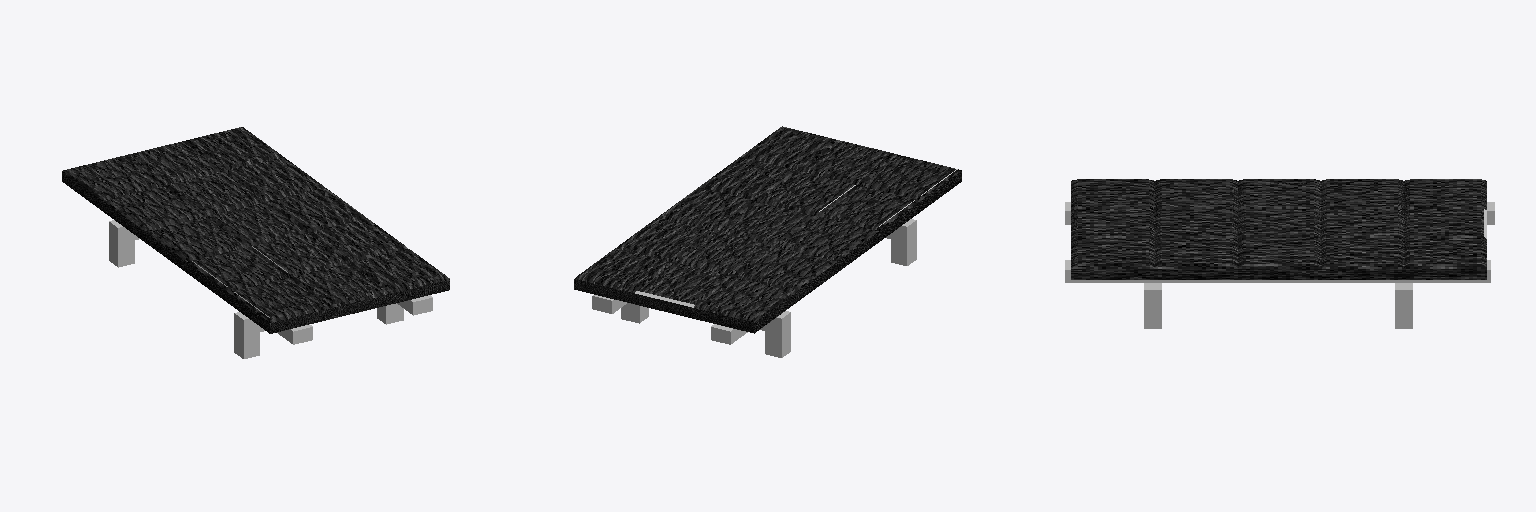
3 renders of one model, left to right at view 1: azimuth 30°, elevation 25°; view 2: azimuth 150°, elevation 25°; view 3: azimuth 270°, elevation 25°, orthographic.
Parts seen in each view (by area): view 1: Cube.003; view 2: Cube.003; view 3: Cube.003.
Part boxes in pixels (x1,y1,x2,y2): Cube.003: (62,127,449,358); Cube.003: (574,126,961,357); Cube.003: (1065,179,1494,328).
Bounding box in the file's own units: 2 × 0.7225 × 4.13.
Materials: 2 (1 with a texture image).